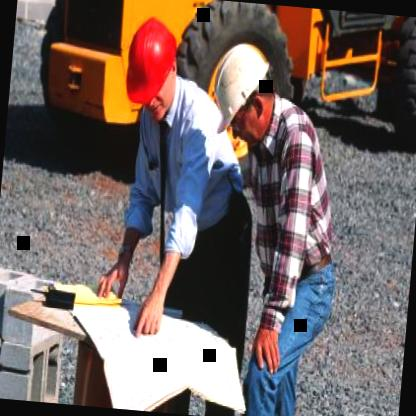helmet: (203, 26, 288, 156), (122, 14, 185, 115)
